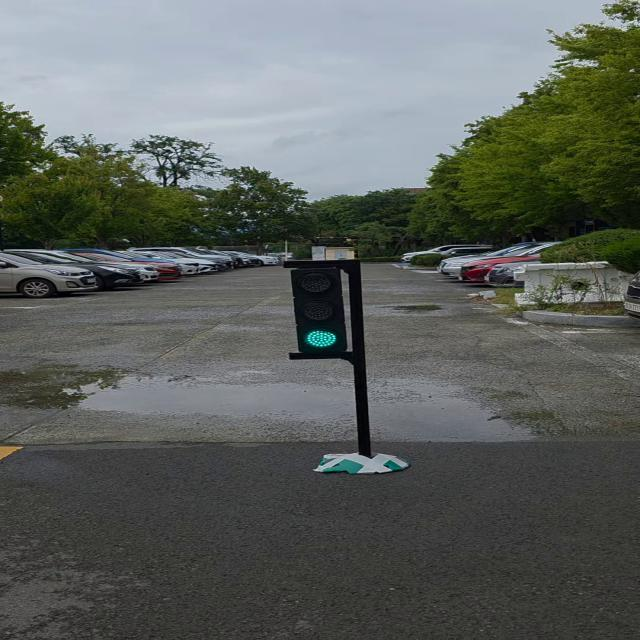green: (287, 264, 357, 358)
